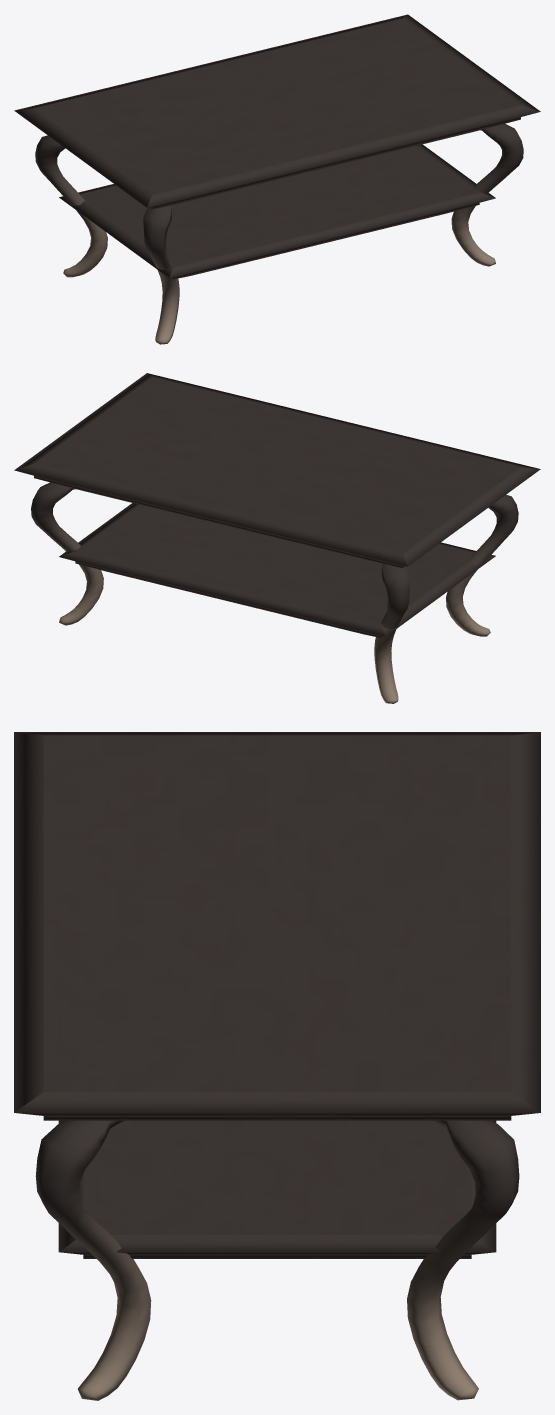
File: SRMapTable.fbx
The picture shows the model from 3 angles, top to bottom: view 1: azimuth 30°, elevation 25°; view 2: azimuth 150°, elevation 25°; view 3: azimuth 270°, elevation 25°; orthographic projection. The views are drawn at different scales.
Visible parts, largest first — view 1: polySurface710; view 2: polySurface710; view 3: polySurface710.
Boxes of the visible parts, bbox=[...] form: polySurface710: bbox=[14, 14, 540, 344]; polySurface710: bbox=[14, 373, 540, 703]; polySurface710: bbox=[14, 732, 540, 1400].
Bounding box in the file's own units: 1.96 × 0.7829 × 1.15.
